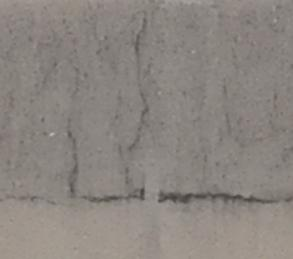fissura: (5, 179, 293, 222), (116, 8, 170, 175)
